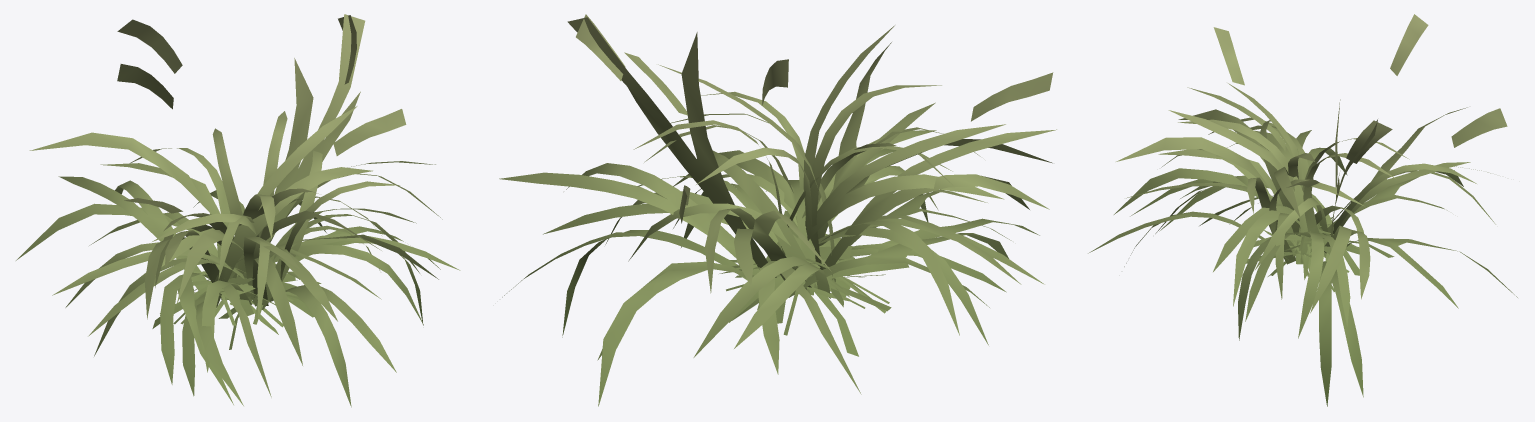
The model's file is Grass Tuft B.glb.
3 renders of one model, left to right at view 1: azimuth 30°, elevation 25°; view 2: azimuth 150°, elevation 25°; view 3: azimuth 270°, elevation 25°, orthographic. The views are drawn at different scales.
Parts seen in each view (by area): view 1: Grass Tuft B; view 2: Grass Tuft B; view 3: Grass Tuft B.
Part boxes in pixels (x1,y1,x2,y2): Grass Tuft B: (16,14,460,407); Grass Tuft B: (499,14,1056,406); Grass Tuft B: (1088,14,1517,406).
Size of the model in its own units: 1.6 by 1.2 by 1.63.
